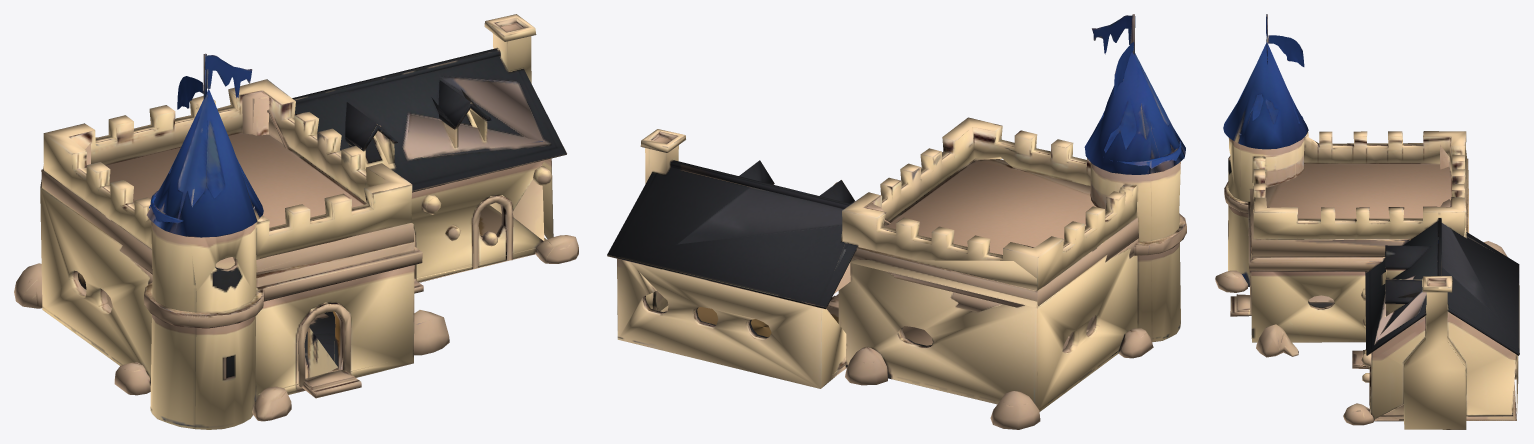
The model's file is meshy-c7-d1.glb.
The picture shows the model from 3 angles, left to right: view 1: azimuth 30°, elevation 25°; view 2: azimuth 150°, elevation 25°; view 3: azimuth 270°, elevation 25°; orthographic projection. The views are drawn at different scales.
Bounding box in the file's own units: 1 × 0.6966 × 0.7386.
Materials: 1 (1 with a texture image).
